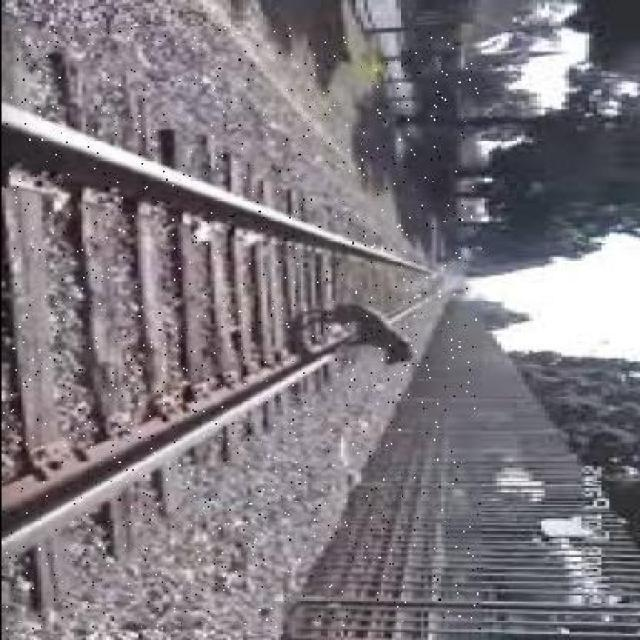danger: (294, 298, 426, 364)
rail: (0, 28, 479, 629)
